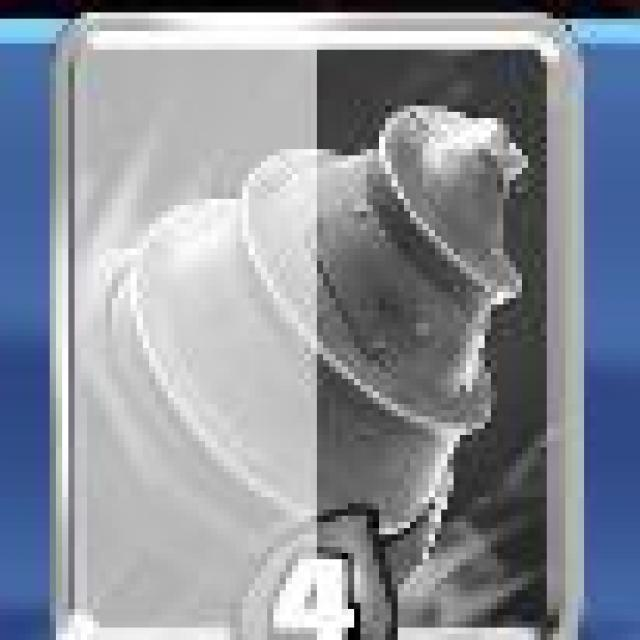Goblin_Drill: (54, 12, 584, 640)
